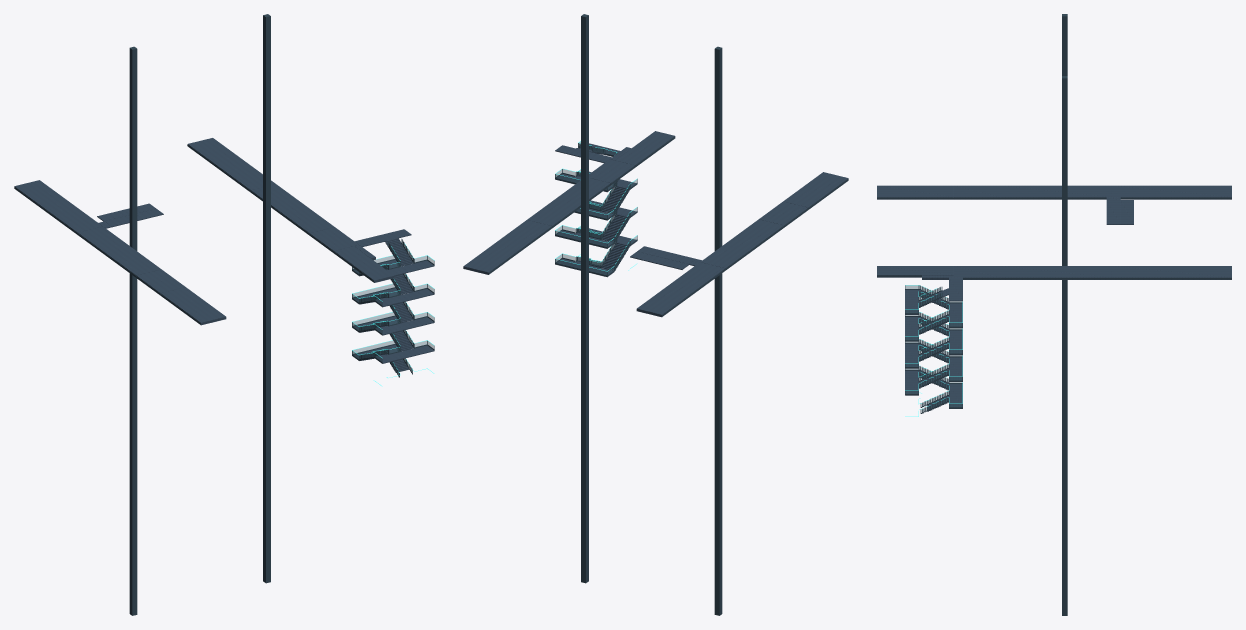
The model's file is v02-detailed-02-06.glb.
3 views of the same model, side by side, from view 1: azimuth 30°, elevation 25°; view 2: azimuth 150°, elevation 25°; view 3: azimuth 270°, elevation 25° (orthographic). The views are drawn at different scales.
Parts seen in each view (by area): view 1: v02-detailed-02-06; view 2: v02-detailed-02-06; view 3: v02-detailed-02-06.
Boxes of the visible parts, x1,y1,x2,y2 form: v02-detailed-02-06: (14, 14, 434, 615); v02-detailed-02-06: (463, 14, 848, 615); v02-detailed-02-06: (877, 14, 1231, 615).
Bounding box in the file's own units: 58.85 × 128 × 76.5.
5 materials, 1 textured.
